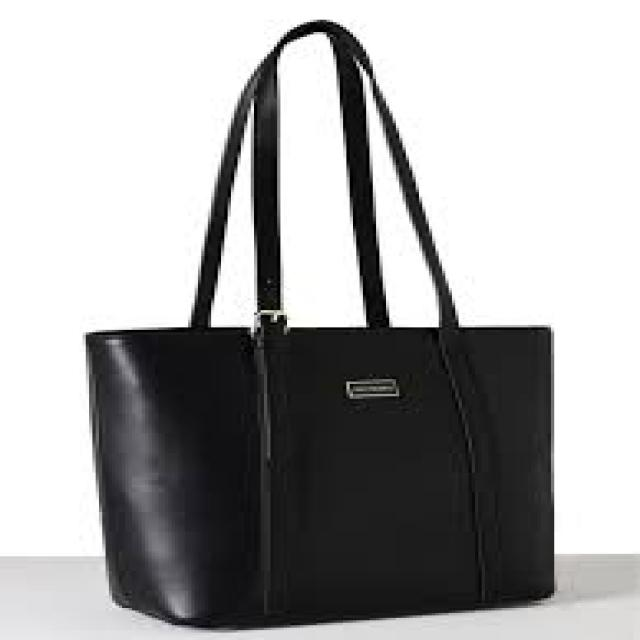handbag: (82, 17, 554, 628)
